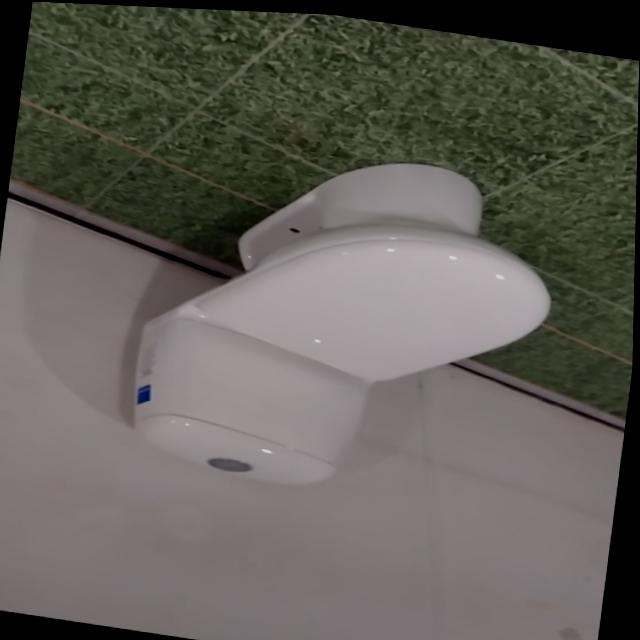toilet: (123, 122, 569, 517)
